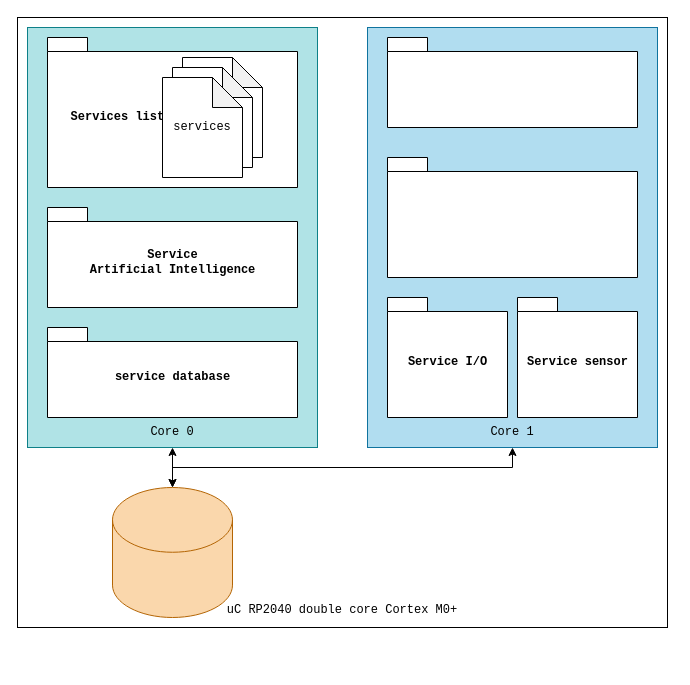
Image size: 690x685. Some labels were removed from this diagram. The shapes that lost their labels are listed below. From the top down, each one's centre as x and y in pixels, then its label:
At (512,82): "RTOS scheduler".
At (512,217): "Service encryption".
At (172,552): "Database".
